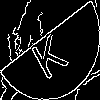K: (25, 25, 70, 81)
